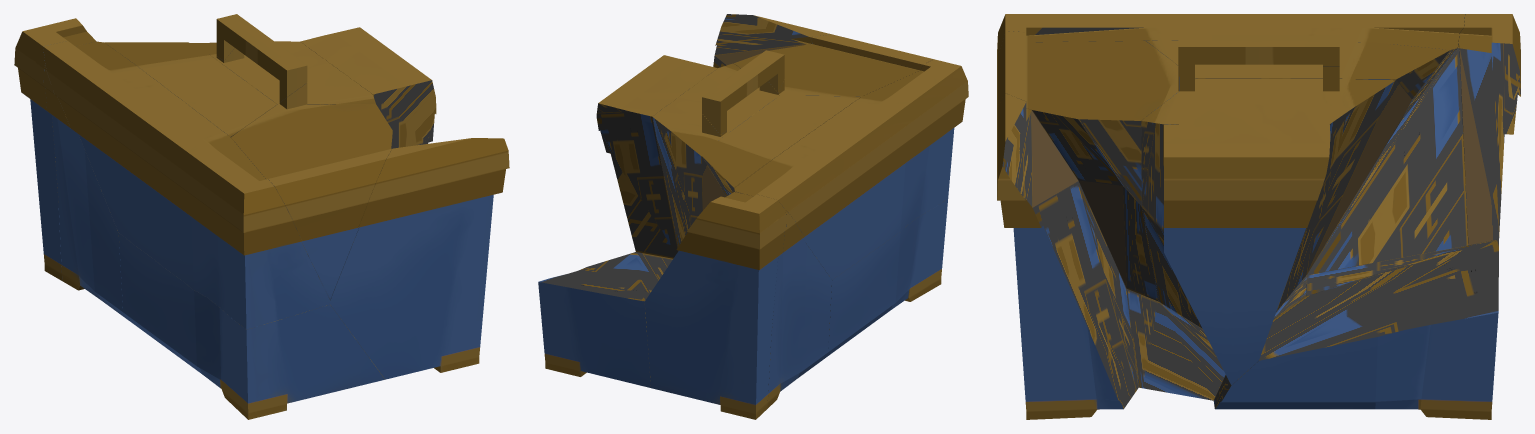
Rendered from BrokenToolBox.fbx.
The picture shows the model from 3 angles, left to right: view 1: azimuth 30°, elevation 25°; view 2: azimuth 150°, elevation 25°; view 3: azimuth 270°, elevation 25°; orthographic projection. The views are drawn at different scales.
Parts seen in each view (by area): view 1: Cube_cell.001, Cube_cell.013, Cube_cell.003, Cube_cell.005, Cube_cell.012, Cube_cell.010, Cube_cell.006, Cube_cell.002, Cube_cell.007, Cube_cell.004; view 2: Cube_cell.001, Cube_cell.002, Cube_cell.011, Cube_cell.010, Cube_cell.003, Cube_cell.007, Cube_cell.012, Cube_cell.005, Cube_cell.006, Cube_cell.013, Cube_cell.004; view 3: Cube_cell.011, Cube_cell.010, Cube_cell.013, Cube_cell.005, Cube_cell.007, Cube_cell.012, Cube_cell.001, Cube_cell.002, Cube_cell.003, Cube_cell.006, Cube_cell.004.
Boxes of the visible parts, x1,y1,x2,y2 form: Cube_cell.001: (43, 41, 330, 329); Cube_cell.013: (330, 138, 509, 379); Cube_cell.003: (118, 233, 384, 419); Cube_cell.005: (231, 83, 392, 300); Cube_cell.012: (43, 41, 128, 320); Cube_cell.010: (300, 27, 436, 148); Cube_cell.006: (104, 42, 276, 137); Cube_cell.002: (14, 18, 95, 280); Cube_cell.007: (190, 41, 375, 106); Cube_cell.004: (216, 14, 307, 101); Cube_cell.001: (732, 59, 968, 279); Cube_cell.002: (644, 192, 786, 419); Cube_cell.011: (538, 252, 672, 387); Cube_cell.010: (596, 55, 717, 258); Cube_cell.003: (823, 198, 948, 359); Cube_cell.007: (652, 63, 779, 246); Cube_cell.012: (735, 191, 831, 408); Cube_cell.005: (733, 34, 933, 96); Cube_cell.006: (702, 95, 860, 196); Cube_cell.013: (713, 14, 831, 67); Cube_cell.004: (702, 50, 784, 134); Cube_cell.011: (1213, 239, 1498, 419); Cube_cell.010: (1164, 124, 1330, 384); Cube_cell.013: (997, 93, 1138, 419); Cube_cell.005: (997, 31, 1195, 301); Cube_cell.007: (1141, 67, 1411, 328); Cube_cell.012: (1306, 43, 1468, 295); Cube_cell.001: (997, 14, 1464, 118); Cube_cell.002: (1458, 14, 1520, 245); Cube_cell.003: (1127, 275, 1306, 400); Cube_cell.006: (1147, 40, 1450, 99); Cube_cell.004: (1178, 35, 1339, 66).
Size of the model in its own units: 321 by 317 by 479.
